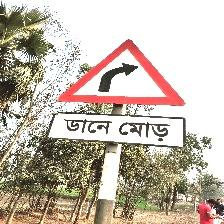Right-turn: (50, 38, 188, 148)
